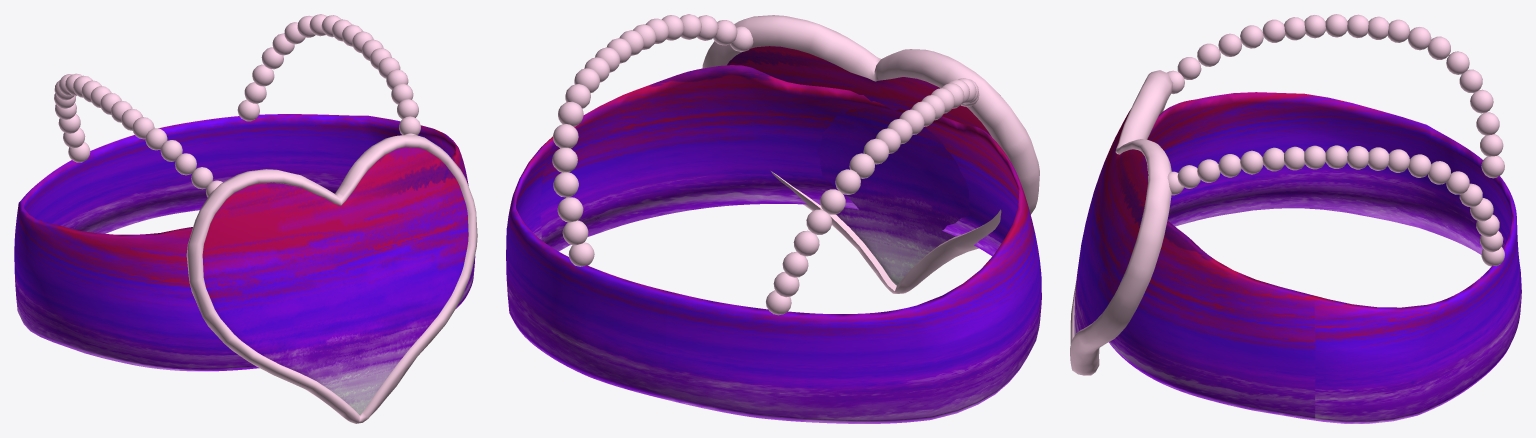
The model's file is hani_top.gltf.
3 views of the same model, side by side, from view 1: azimuth 30°, elevation 25°; view 2: azimuth 150°, elevation 25°; view 3: azimuth 270°, elevation 25° (orthographic). The views are drawn at different scales.
Parts seen in each view (by area): view 1: BODY.6, Remesh, Remesh.1, Cloner; view 2: BODY.6, Remesh, Cloner, Remesh.1; view 3: BODY.6, Cloner, Remesh.1, Remesh.
Part boxes in pixels (x1,y1,x2,y2): BODY.6: (14,114,475,371); Remesh: (202,147,468,415); Remesh.1: (186,135,477,423); Cloner: (54,14,420,197); BODY.6: (506,65,1041,423); Remesh: (727,46,990,285); Cloner: (552,14,979,315); Remesh.1: (702,15,1039,293); BODY.6: (1109,92,1521,423); Cloner: (1167,14,1504,266); Remesh.1: (1070,70,1173,375); Remesh: (1074,109,1148,335).
Size of the model in its own units: 0.0346 by 0.0218 by 0.0305.
Materials: 2 (1 with a texture image).
